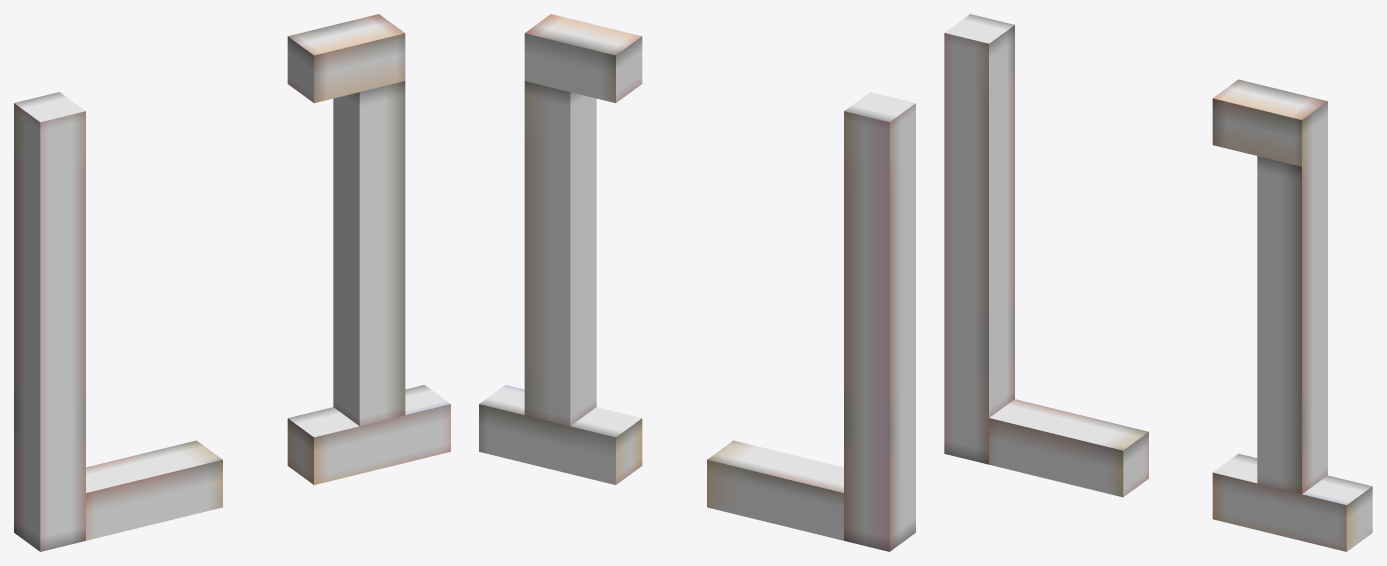
File: Matrix_5.dae
3 views of the same model, side by side, from view 1: azimuth 30°, elevation 25°; view 2: azimuth 150°, elevation 25°; view 3: azimuth 330°, elevation 25° (orthographic). The views are drawn at different scales.
Parts seen in each view (by area): view 1: Matrix_5; view 2: Matrix_5; view 3: Matrix_5.
Part boxes in pixels (x1=…): Matrix_5: x1=14, y1=14, x2=450, y2=551; Matrix_5: x1=479, y1=14, x2=915, y2=551; Matrix_5: x1=944, y1=14, x2=1372, y2=551.
Bounding box in the file's own units: 9 × 9 × 1.
